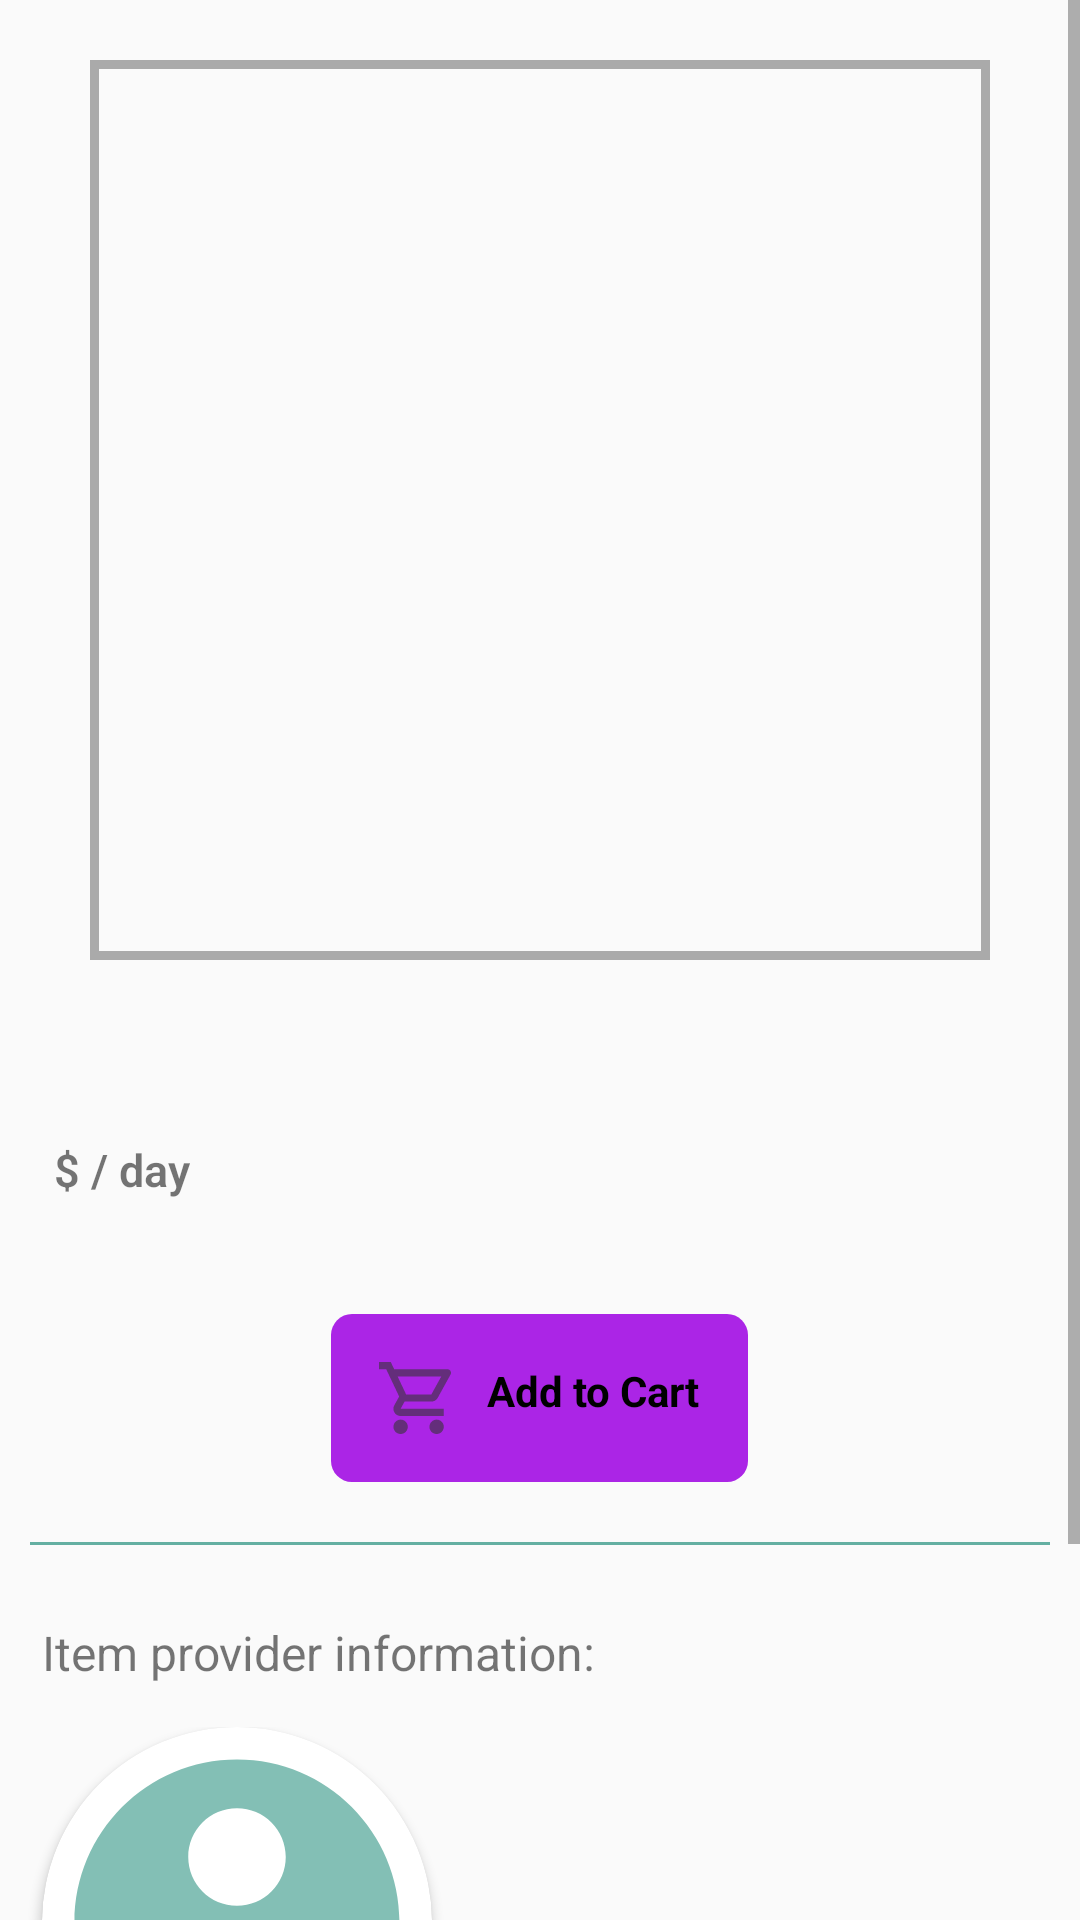

Point at icon controls on the screen. Image size 1080px x 1920px, points as (x=x, y=y).
Shopping Cart Symbol: (x=415, y=1398)
